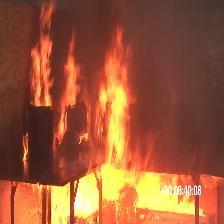fire: (52, 174, 188, 215), (102, 66, 128, 159), (33, 45, 54, 105)
